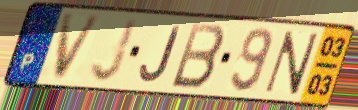9: (229, 26, 273, 94)
B: (168, 21, 228, 92)
J: (88, 17, 140, 85), (138, 24, 184, 84)
N: (261, 29, 322, 97)
V: (51, 13, 105, 83)
